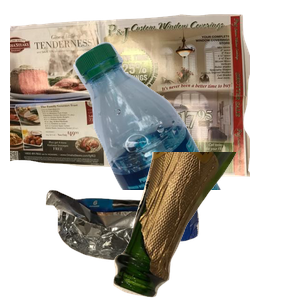glass: (111, 152, 300, 300)
paper: (10, 11, 250, 180)
plastic: (71, 39, 300, 219)
trash: (43, 187, 234, 300)
